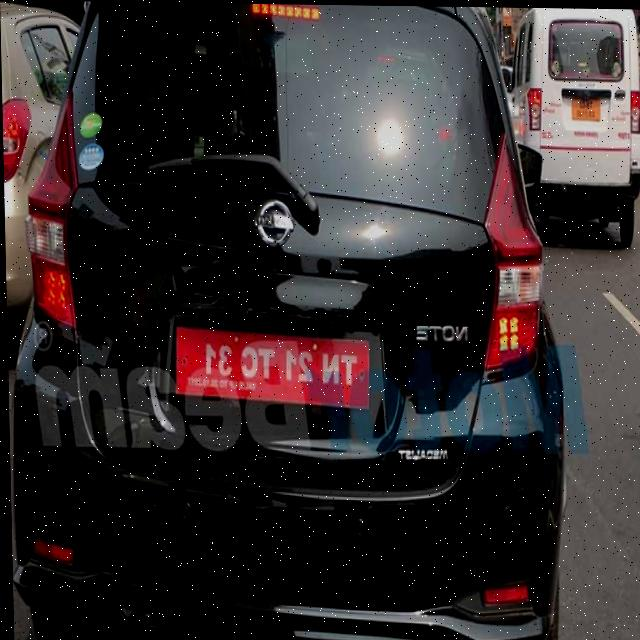plate: (167, 318, 369, 420), (570, 93, 602, 125)
